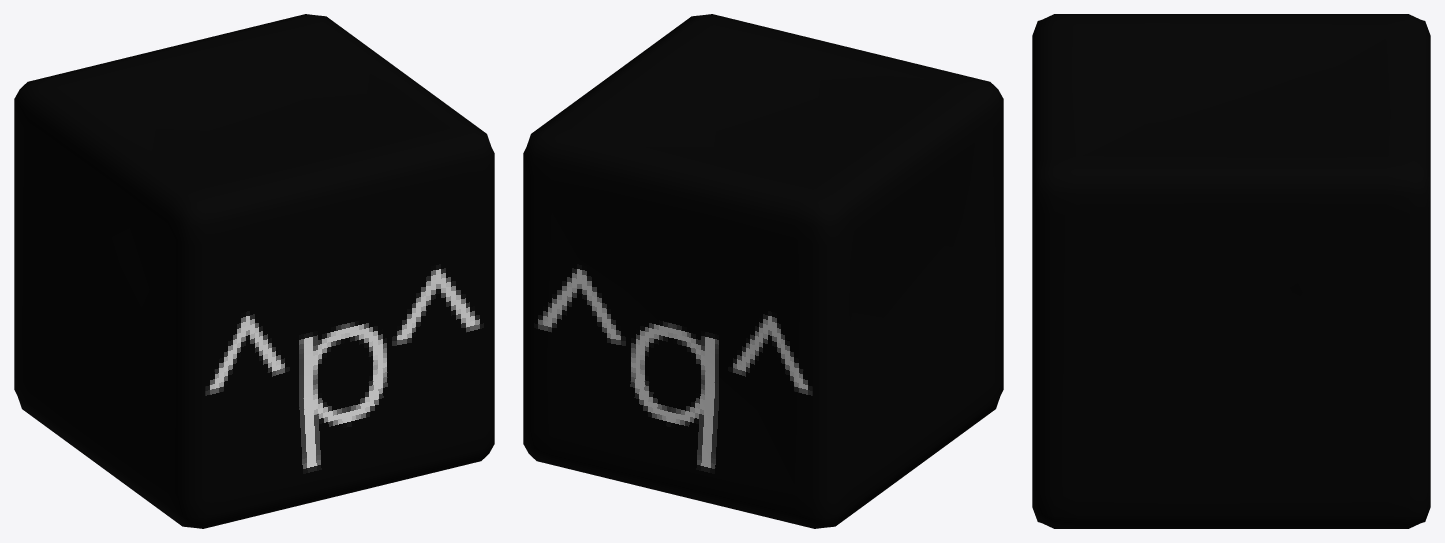
The model's file is uirou.dae.
The picture shows the model from 3 angles, left to right: view 1: azimuth 30°, elevation 25°; view 2: azimuth 150°, elevation 25°; view 3: azimuth 270°, elevation 25°; orthographic projection. The views are drawn at different scales.
Visible parts, largest first — view 1: 立方体; view 2: 立方体; view 3: 立方体.
Part boxes in pixels (left/top/right/bottom): 立方体: left=14, top=14, right=494, bottom=528; 立方体: left=523, top=14, right=1003, bottom=528; 立方体: left=1032, top=14, right=1430, bottom=528.
Size of the model in its own units: 1 by 1 by 1.
Materials: 1 (1 with a texture image).
